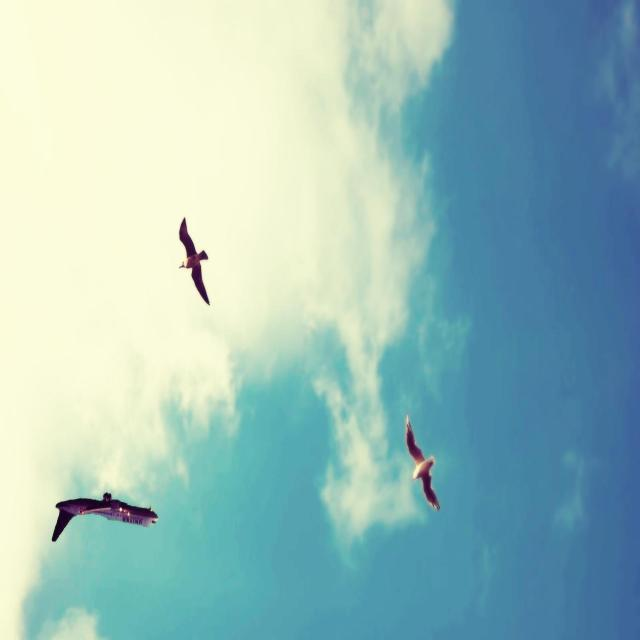airplane: (52, 491, 158, 542)
